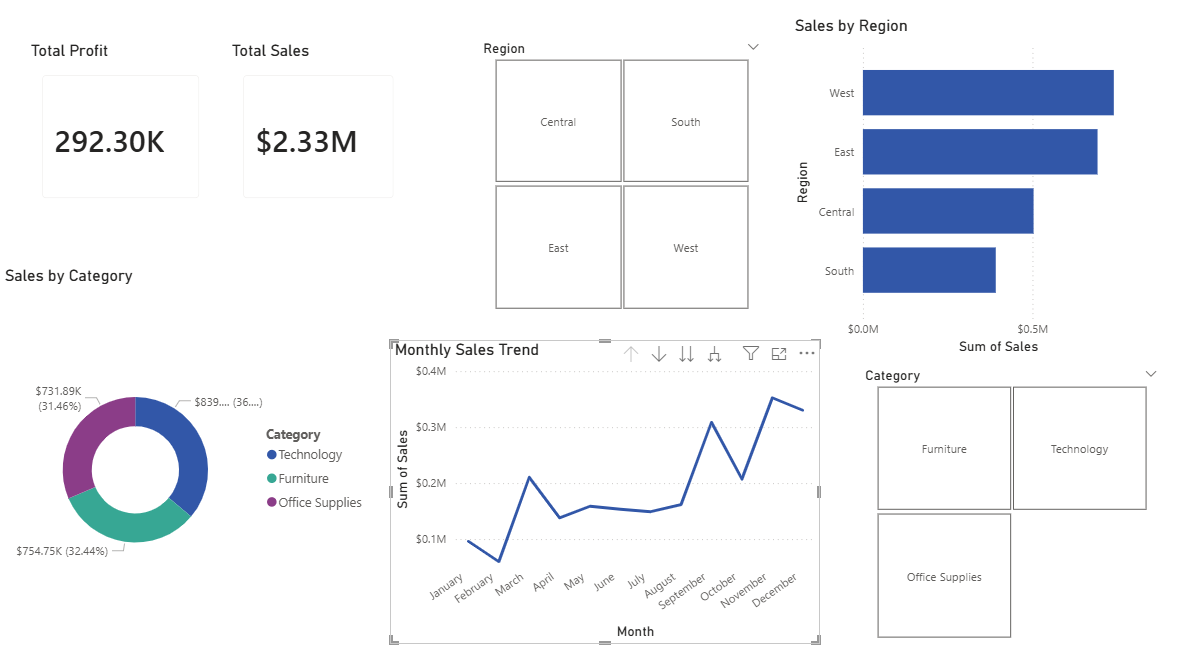

Layout of this report page (visuals, bound fields, positions):
{"tool":"powerbi","page":{"name":"Page 1","canvas":[1280,720],"ordinal":0},"visuals":[{"type":"cardVisual","title":"Total Sales","fields":{"Data":["Sum(samplesuperstore.Sales)"]},"box":[250.1,52.6,193.2,183.7],"z":0},{"type":"cardVisual","title":"Total Profit","fields":{"Data":["Sum(samplesuperstore.Profit)"]},"box":[38,52.6,200.1,183.7],"z":1000},{"type":"clusteredBarChart","title":"Sales by Region","fields":{"Category":["samplesuperstore.Region"],"Y":["Sum(samplesuperstore.Sales)"]},"box":[845.3,25.9,385.6,361.4],"z":2000},{"type":"lineChart","title":"Monthly Sales Trend","fields":{"Category":["samplesuperstore.Order Date.Variation.Date Hierarchy.Month","samplesuperstore.Order Date.Variation.Date Hierarchy.Day"],"Y":["Sum(samplesuperstore.Sales)"]},"box":[422.6,368.3,453.7,320.9],"z":3000},{"type":"donutChart","title":"Sales by Category","fields":{"Category":["samplesuperstore.Category"],"Y":["Sum(samplesuperstore.Sales)"]},"box":[10.4,290.7,395.9,411.4],"z":4000},{"type":"slicer","fields":{"Values":["samplesuperstore.Region"]},"box":[508,47.4,317.4,295],"z":5000},{"type":"slicer","fields":{"Values":["samplesuperstore.Category"]},"box":[911.7,392.5,333.8,296.7],"z":6000}]}

Visuals, with their boxes in screenshot pixels (x1, y1, x2, y2), scaled from the page's 1280x720 canvas onto the 1178x659 screenshot:
"Total Sales" cardVisual: [x1=230, y1=48, x2=408, y2=216]
"Total Profit" cardVisual: [x1=35, y1=48, x2=219, y2=216]
"Sales by Region" clusteredBarChart: [x1=778, y1=24, x2=1133, y2=354]
"Monthly Sales Trend" lineChart: [x1=389, y1=337, x2=806, y2=631]
"Sales by Category" donutChart: [x1=10, y1=266, x2=374, y2=643]
slicer - samplesuperstore.Region: [x1=468, y1=43, x2=760, y2=313]
slicer - samplesuperstore.Category: [x1=839, y1=359, x2=1146, y2=631]
